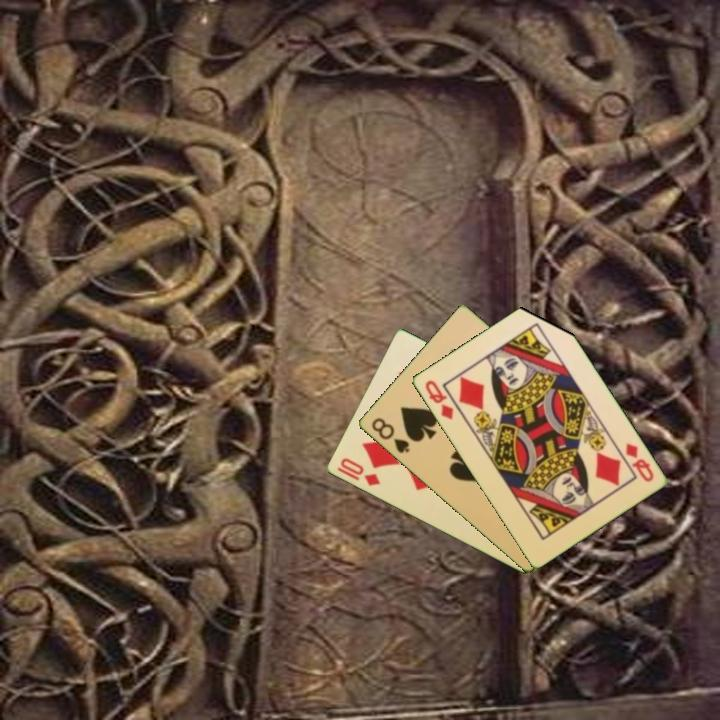10d: (336, 454, 383, 489)
8s: (367, 414, 412, 456)
Qd: (421, 376, 456, 422), (621, 439, 656, 485)
